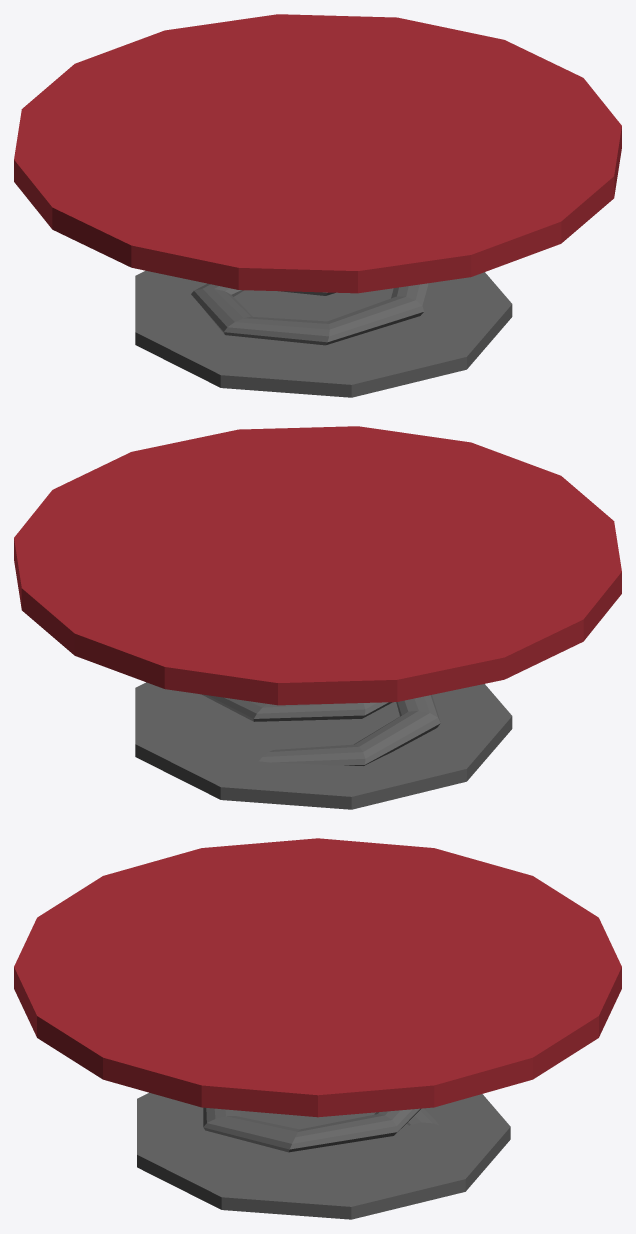
The model's file is spring.fbx.
3 renders of one model, top to bottom at view 1: azimuth 30°, elevation 25°; view 2: azimuth 150°, elevation 25°; view 3: azimuth 270°, elevation 25°, orthographic.
Parts seen in each view (by area): view 1: Cylinder.001; view 2: Cylinder.001; view 3: Cylinder.001.
Boxes of the visible parts, bbox=[...] form: Cylinder.001: bbox=[14, 14, 621, 397]; Cylinder.001: bbox=[14, 426, 621, 809]; Cylinder.001: bbox=[14, 838, 621, 1219].
Size of the model in its own units: 880 by 277 by 880.
